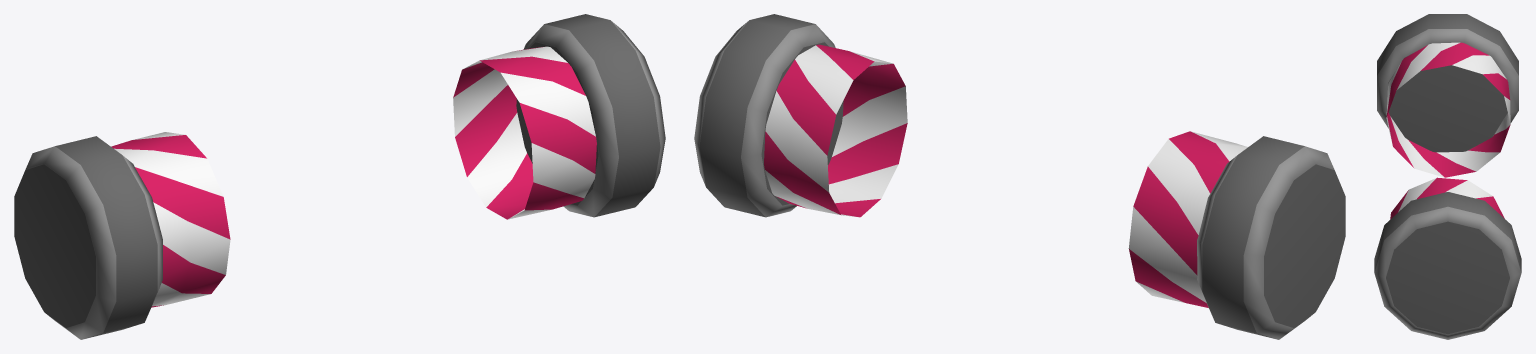
The model's file is cannon_001.fbx.
3 renders of one model, left to right at view 1: azimuth 30°, elevation 25°; view 2: azimuth 150°, elevation 25°; view 3: azimuth 270°, elevation 25°, orthographic. The views are drawn at different scales.
Parts seen in each view (by area): view 1: cannon_001; view 2: cannon_001; view 3: cannon_001.
Boxes of the visible parts, box(x1,y1,x2,y2) form: cannon_001: box(14, 14, 665, 339); cannon_001: box(694, 14, 1345, 339); cannon_001: box(1374, 14, 1521, 339).
Size of the model in its own units: 375 by 114 by 114.
